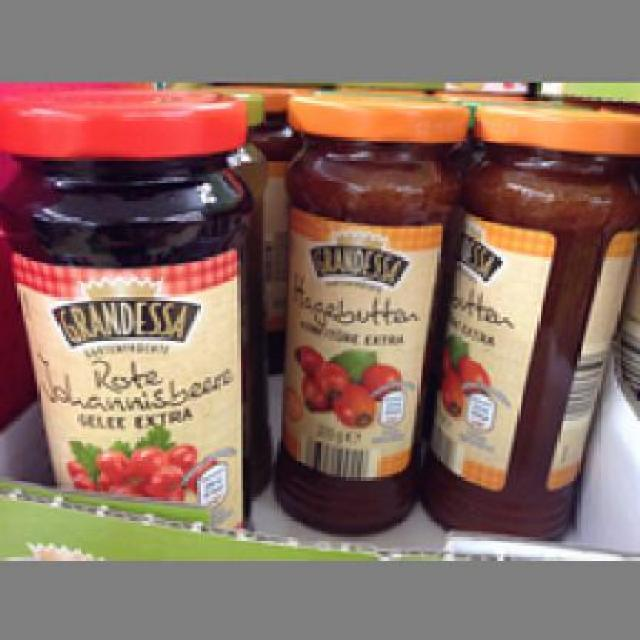Jam: (0, 84, 255, 532), (422, 91, 638, 538), (268, 88, 472, 534)
